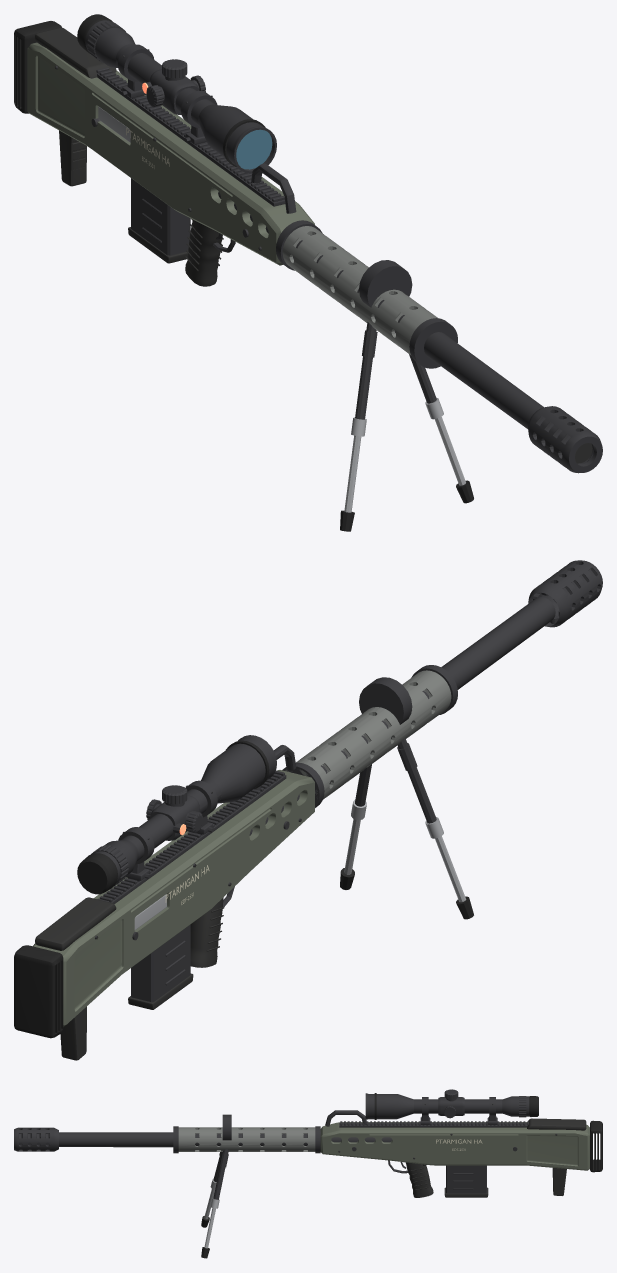
File: ptarmigan.glb
3 renders of one model, top to bottom at view 1: azimuth 30°, elevation 25°; view 2: azimuth 150°, elevation 25°; view 3: azimuth 270°, elevation 25°, orthographic. The views are drawn at different scales.
Visible parts, largest first — view 1: Body; view 2: Body; view 3: Body.
Boxes of the visible parts, <box> form: Body: <box>14,14,602,531</box>; Body: <box>14,560,602,1060</box>; Body: <box>14,1089,602,1258</box>.
Size of the model in its own units: 0.218 by 0.4452 by 1.58.
